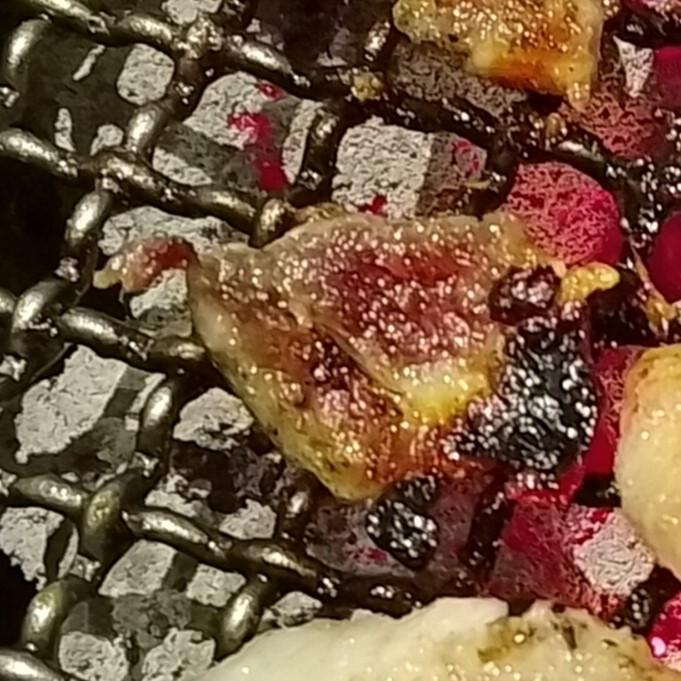Overcooked: (112, 204, 620, 568)
